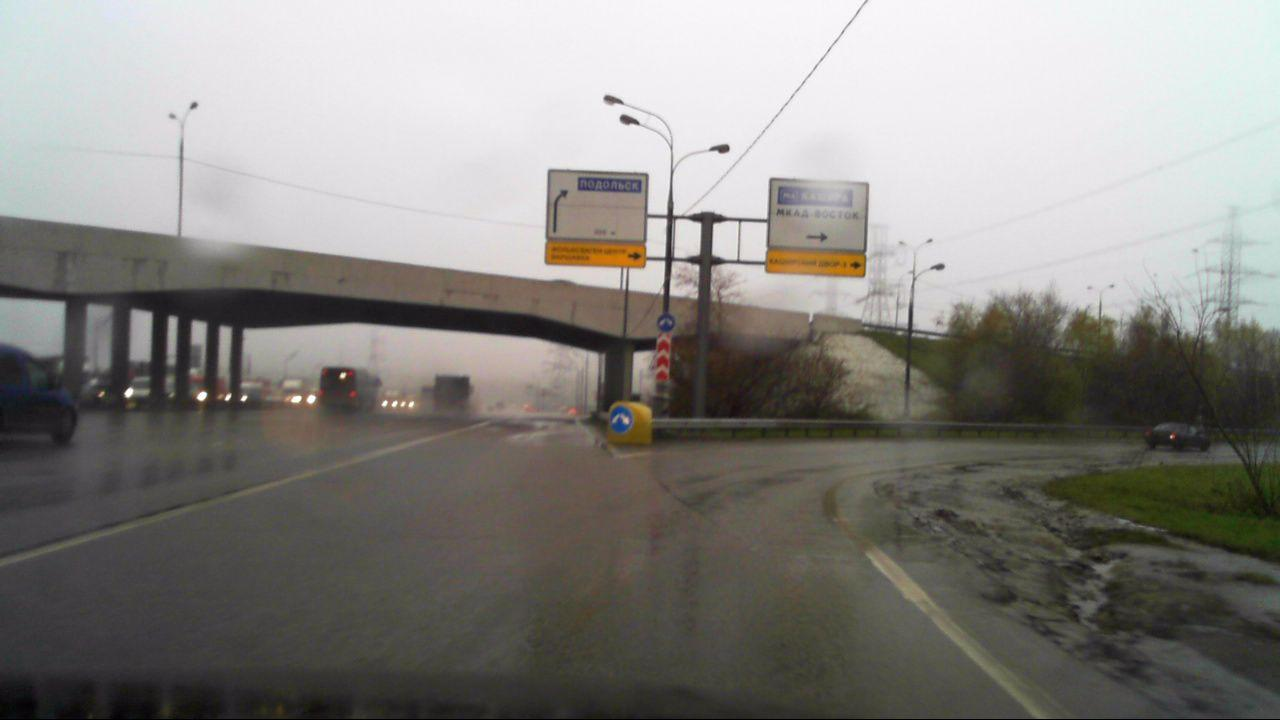road_sign: (655, 332, 671, 381), (609, 405, 634, 434), (656, 312, 676, 332)
